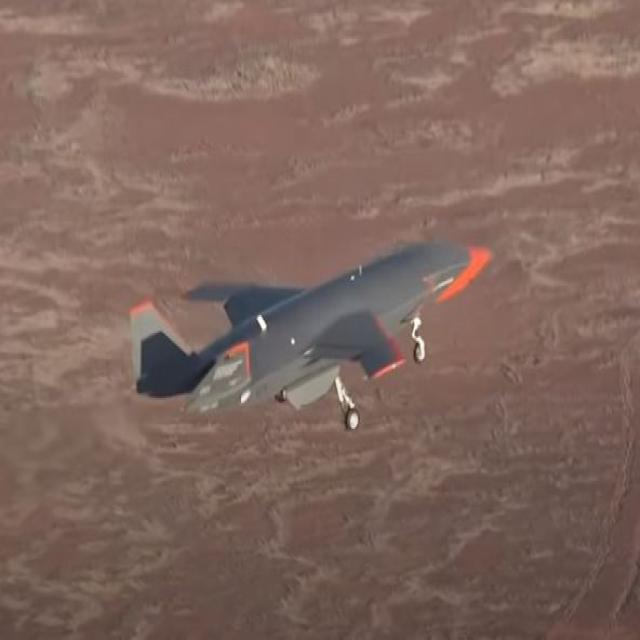iha: (126, 232, 494, 441)
